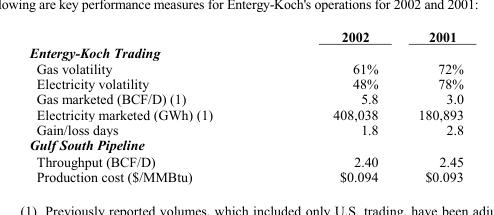table: (28, 28, 462, 184)
table column: (28, 28, 272, 184), (272, 28, 397, 184), (397, 28, 462, 184)
table column header: (28, 28, 462, 44)
table projected row header: (28, 44, 462, 60), (28, 136, 462, 152)
table row: (28, 28, 462, 44), (28, 44, 462, 60), (28, 75, 462, 91), (28, 136, 462, 152), (28, 152, 462, 168), (28, 168, 462, 184), (28, 60, 462, 75), (28, 91, 462, 106), (28, 106, 462, 121), (28, 121, 462, 136)
